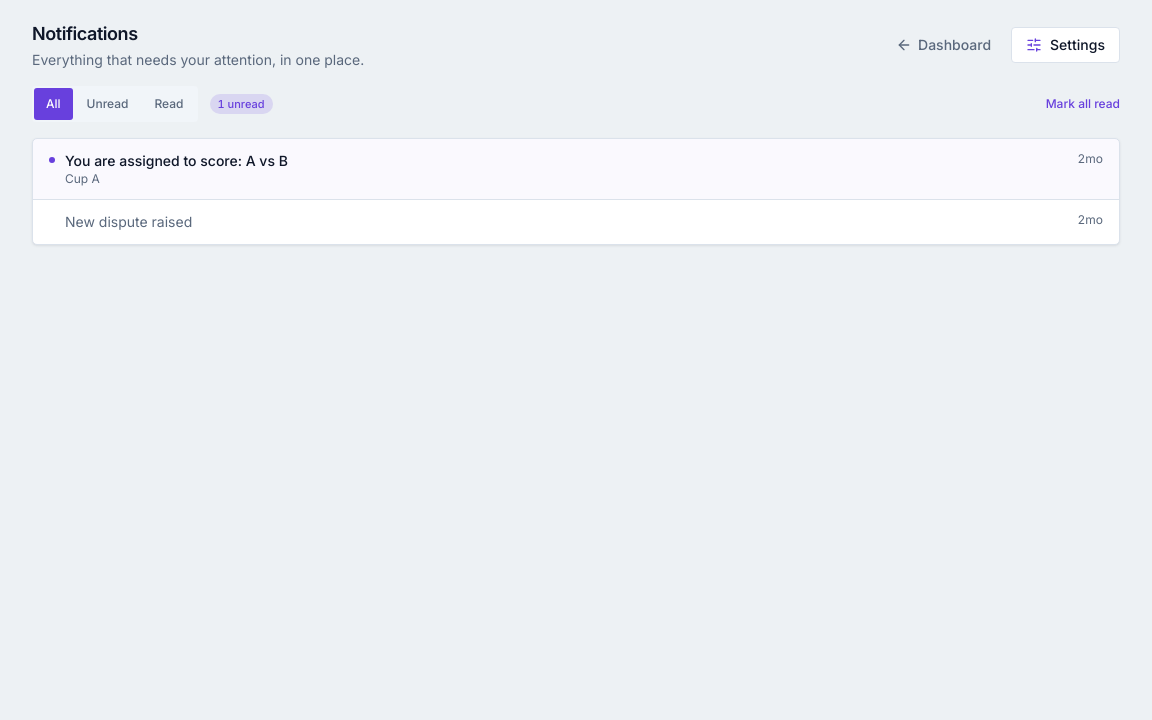
NotificationPrefsPage › renders the live matrix inside the settings drawer
This screenshot has width=1152, height=720.
What coordinates should you click on to do the following:
click the button with test id "open-notification-settings"
I would click on:
 (1066, 45)
Its box is [1011, 27, 1120, 63].
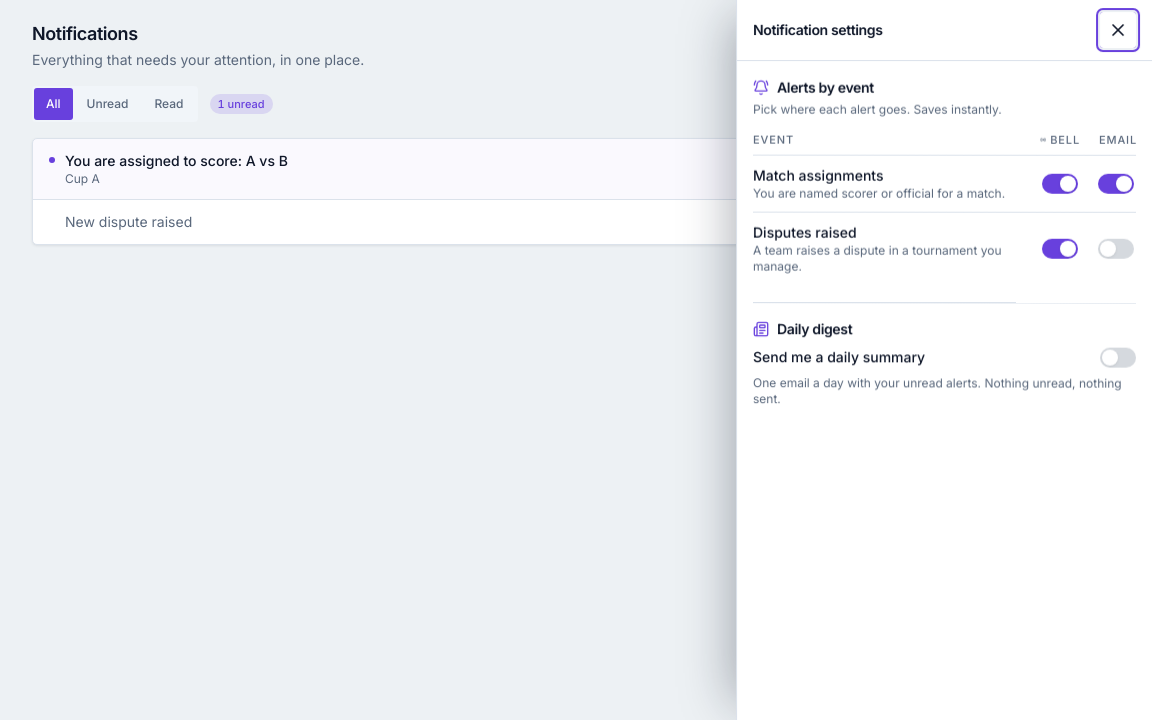
Expected: the text "Match assignments" is shown, [753, 166, 884, 183]
